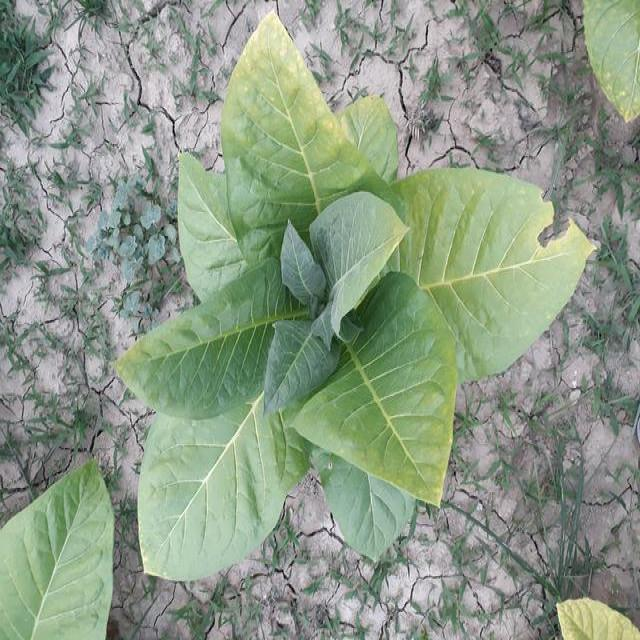crop: (114, 13, 596, 590)
